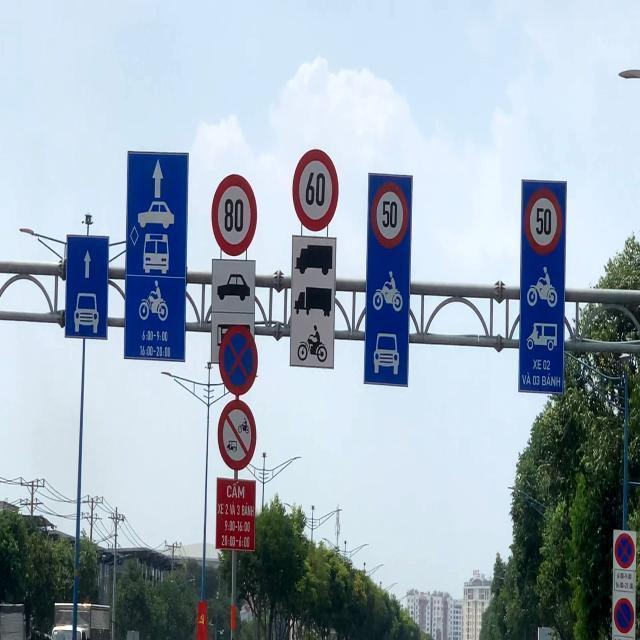127-toc-do-toi-da-50: (522, 195, 564, 252), (374, 187, 409, 245)
127-toc-do-toi-da-60: (293, 148, 340, 230)
127-toc-do-toi-da-80: (210, 176, 260, 256)
130-cam-dung-va-do-xe: (214, 324, 261, 393), (615, 532, 636, 568)
131a-cam-do-xe: (614, 596, 634, 633)
